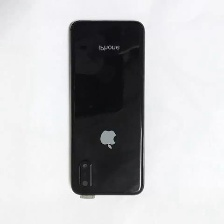phone: (66, 15, 147, 200)
